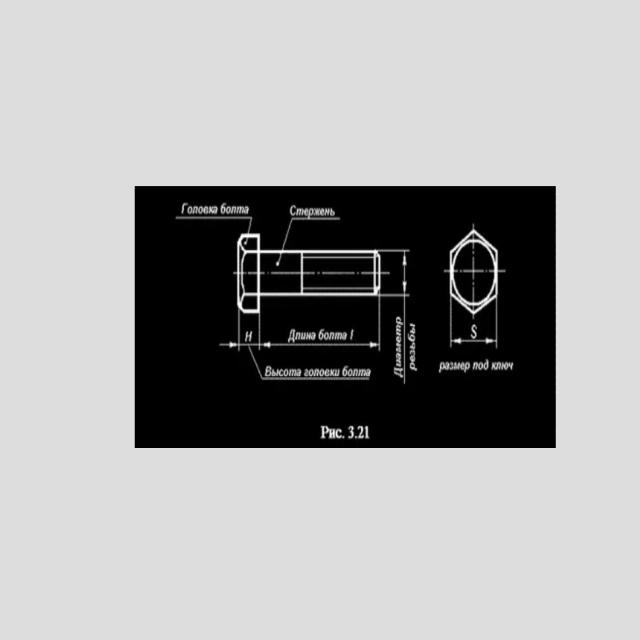marking_line: (260, 340, 378, 348), (452, 336, 496, 347), (213, 341, 239, 351)
